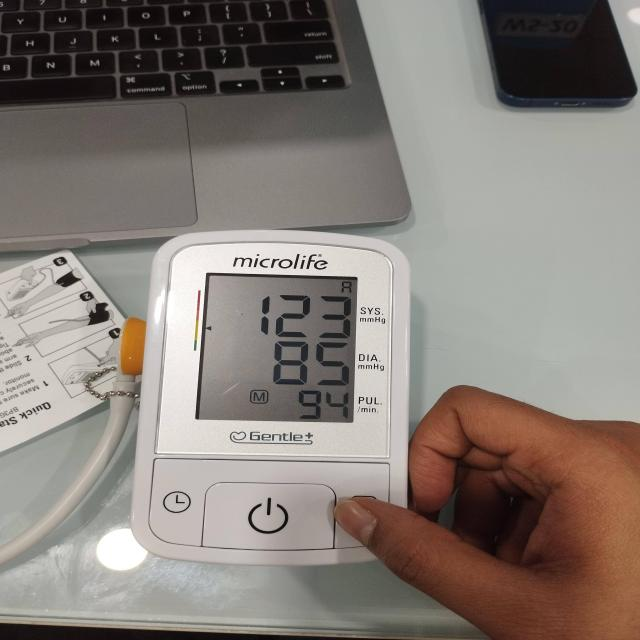bp: (130, 233, 413, 567)
